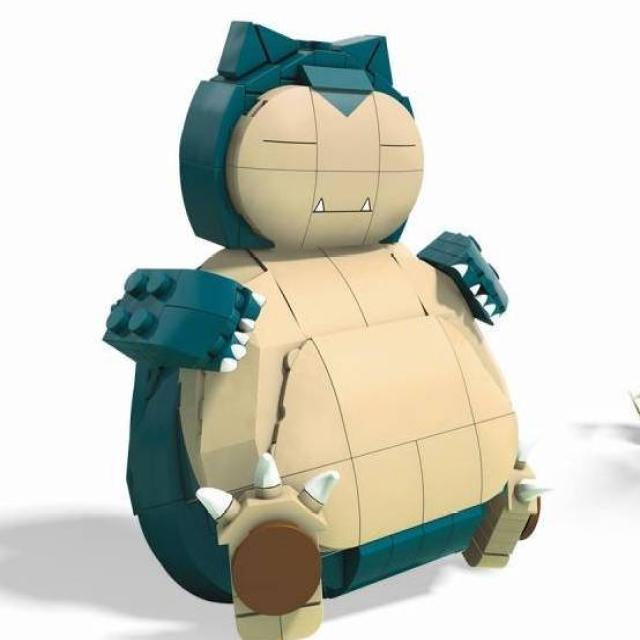Snorlax: (134, 17, 545, 624)
